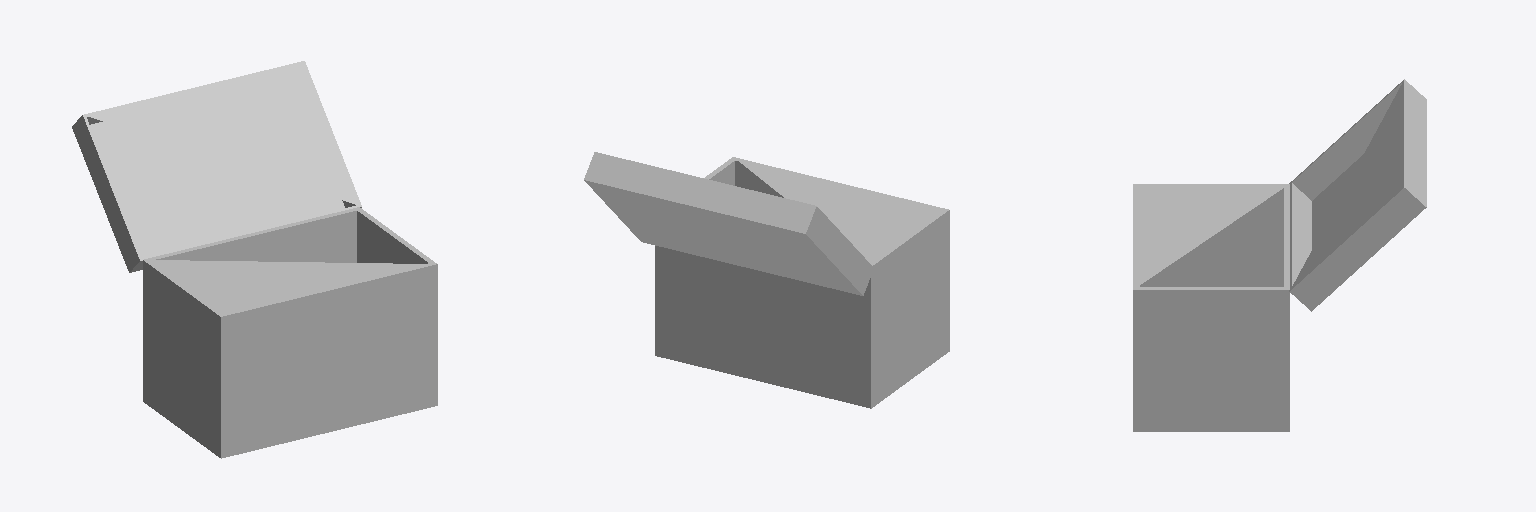
File: toolbox-open.obj
The picture shows the model from 3 angles: view 1: azimuth 30°, elevation 25°; view 2: azimuth 150°, elevation 25°; view 3: azimuth 270°, elevation 25°; orthographic projection.
Visible parts, largest first — view 1: Cube, Cube.001; view 2: Cube, Cube.001; view 3: Cube, Cube.001.
Part boxes in pixels (left/top/right/bottom): Cube: left=143, top=207, right=437, bottom=458; Cube.001: left=72, top=61, right=361, bottom=272; Cube: left=655, top=157, right=949, bottom=408; Cube.001: left=584, top=152, right=873, bottom=295; Cube: left=1133, top=184, right=1289, bottom=431; Cube.001: left=1289, top=79, right=1426, bottom=311.
Size of the model in its own units: 0.82 by 0.8656 by 0.9372.